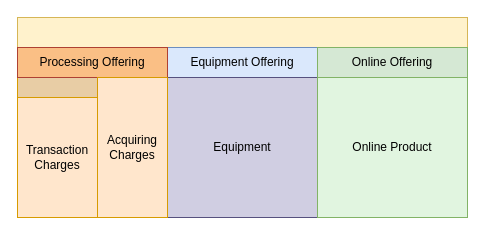
Image size: 485x235. Some labels were removed from this diagram. Here are the shapes that lost their labels. From the top down, the box of each, then its label:
(16, 16, 468, 48): Offer Package
(16, 76, 98, 98): Charge Group
